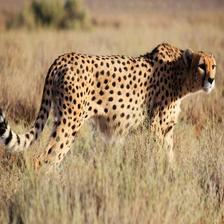Cheetah: (0, 39, 219, 185)
